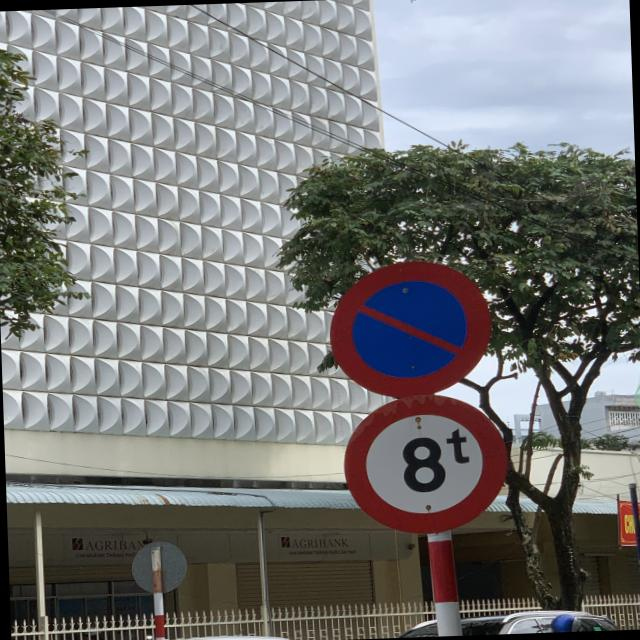Cam_Dau_Xe: (324, 259, 487, 392)
